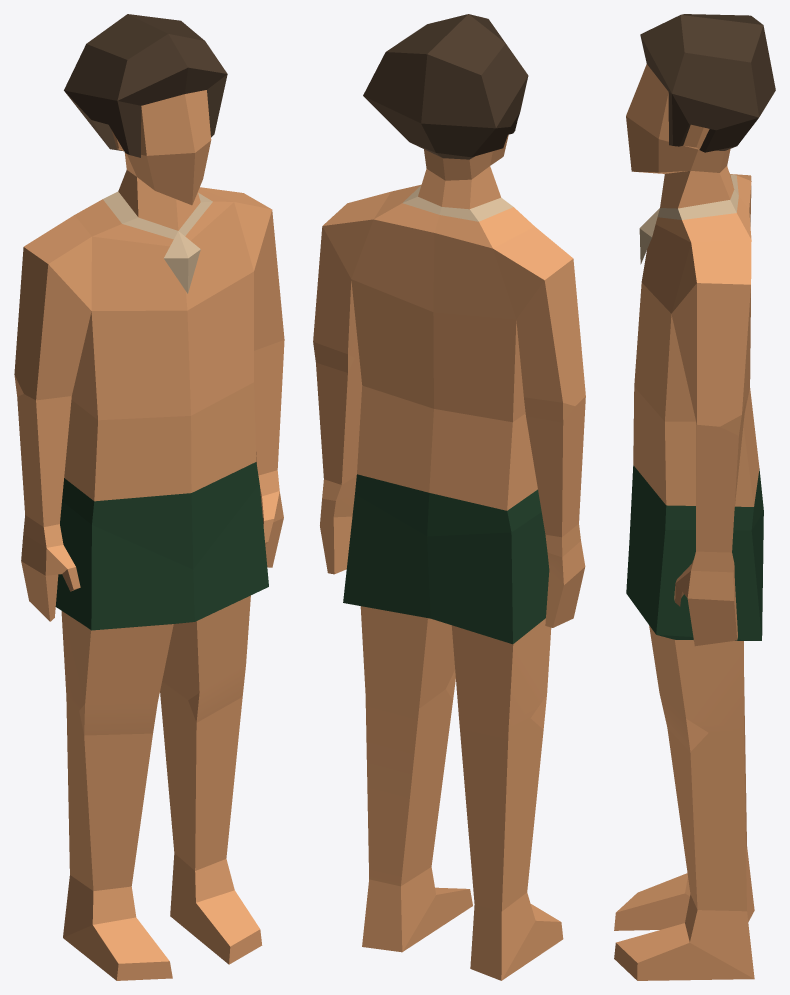
The model's file is people_man-beach.fbx.
The picture shows the model from 3 angles, left to right: view 1: azimuth 30°, elevation 25°; view 2: azimuth 150°, elevation 25°; view 3: azimuth 270°, elevation 25°; orthographic projection.
Parts seen in each view (by area): view 1: people_man_beach; view 2: people_man_beach; view 3: people_man_beach.
Part boxes in pixels (x1,y1,x2,y2): people_man_beach: [14, 14, 284, 980]; people_man_beach: [313, 14, 585, 980]; people_man_beach: [614, 14, 775, 980].
Bounding box in the file's own units: 57.26 × 200 × 31.53.
